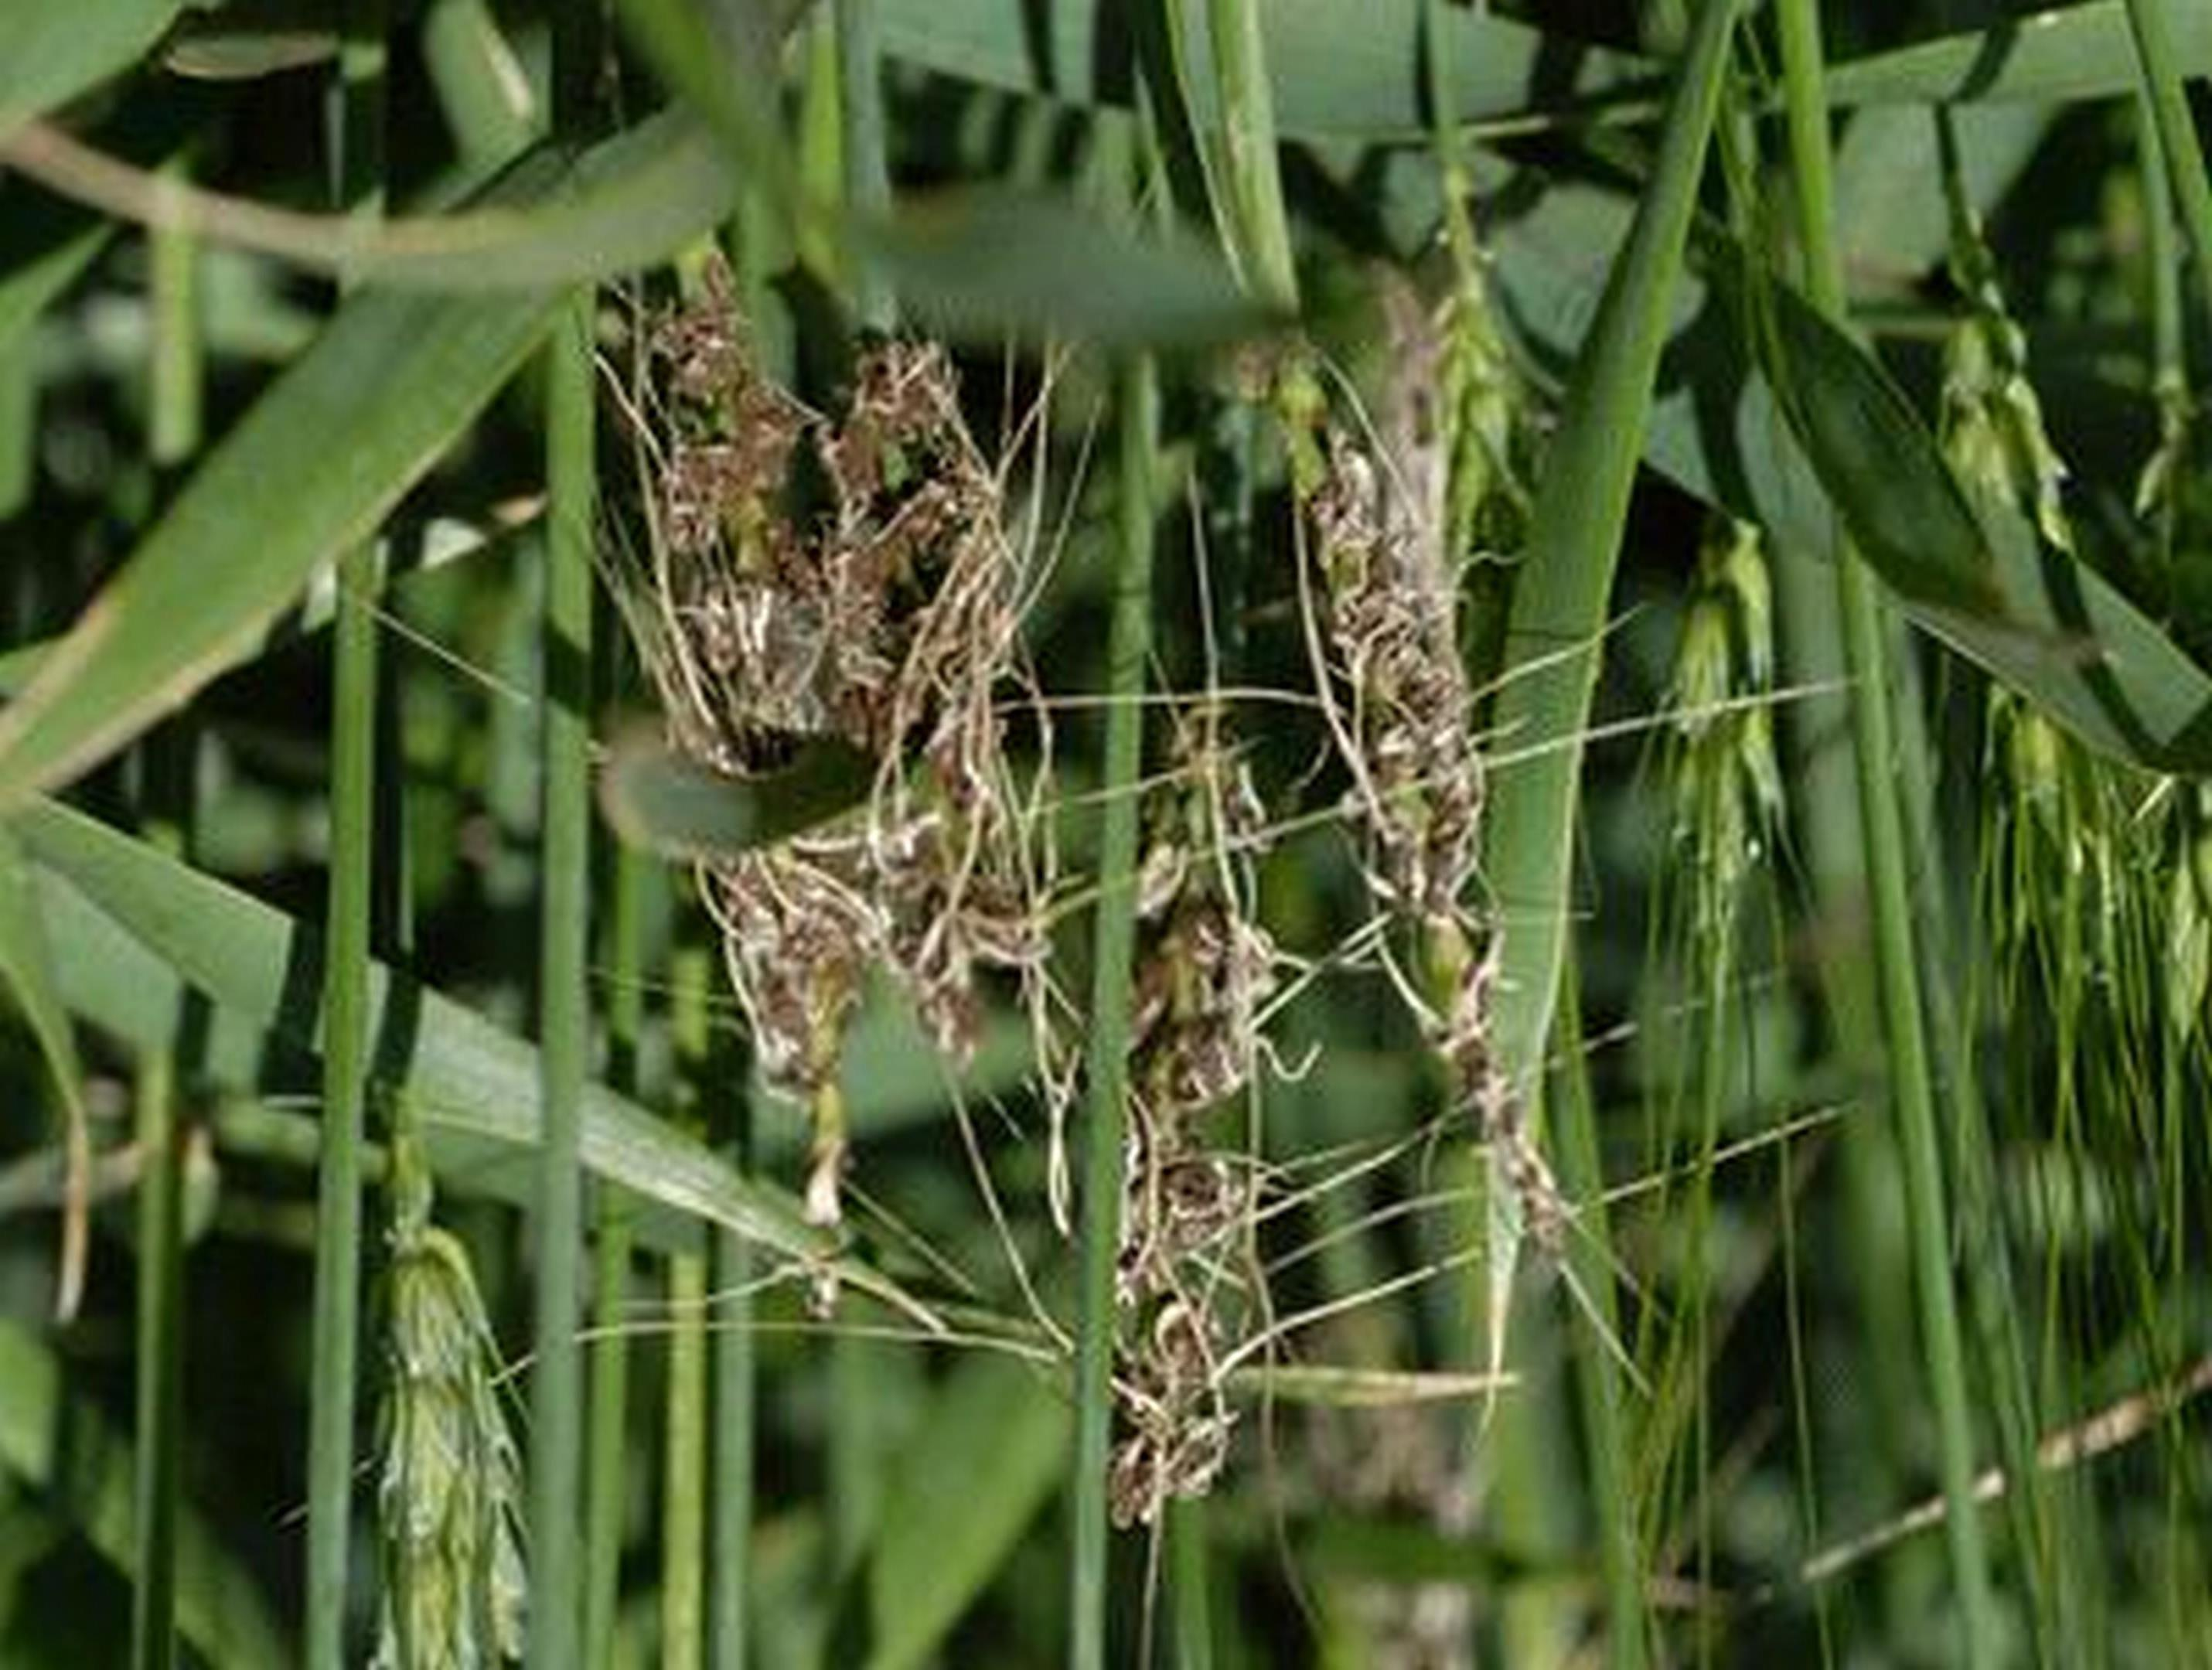Wheat Loose Smut: (607, 333, 1561, 1344)
